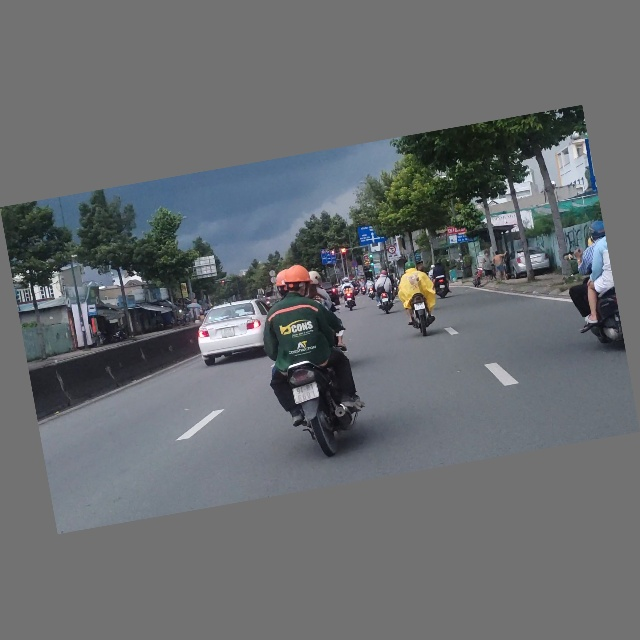P.137: (387, 246, 397, 254)
R.415a: (321, 252, 337, 266)
